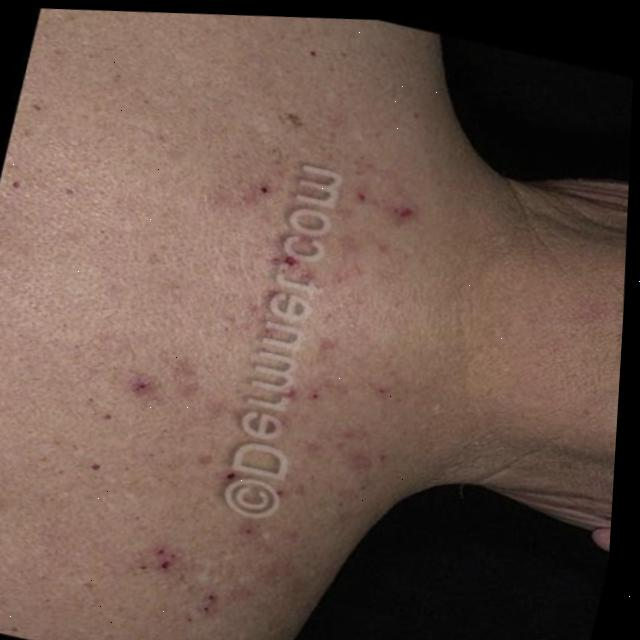Eczema: (76, 78, 402, 610)
